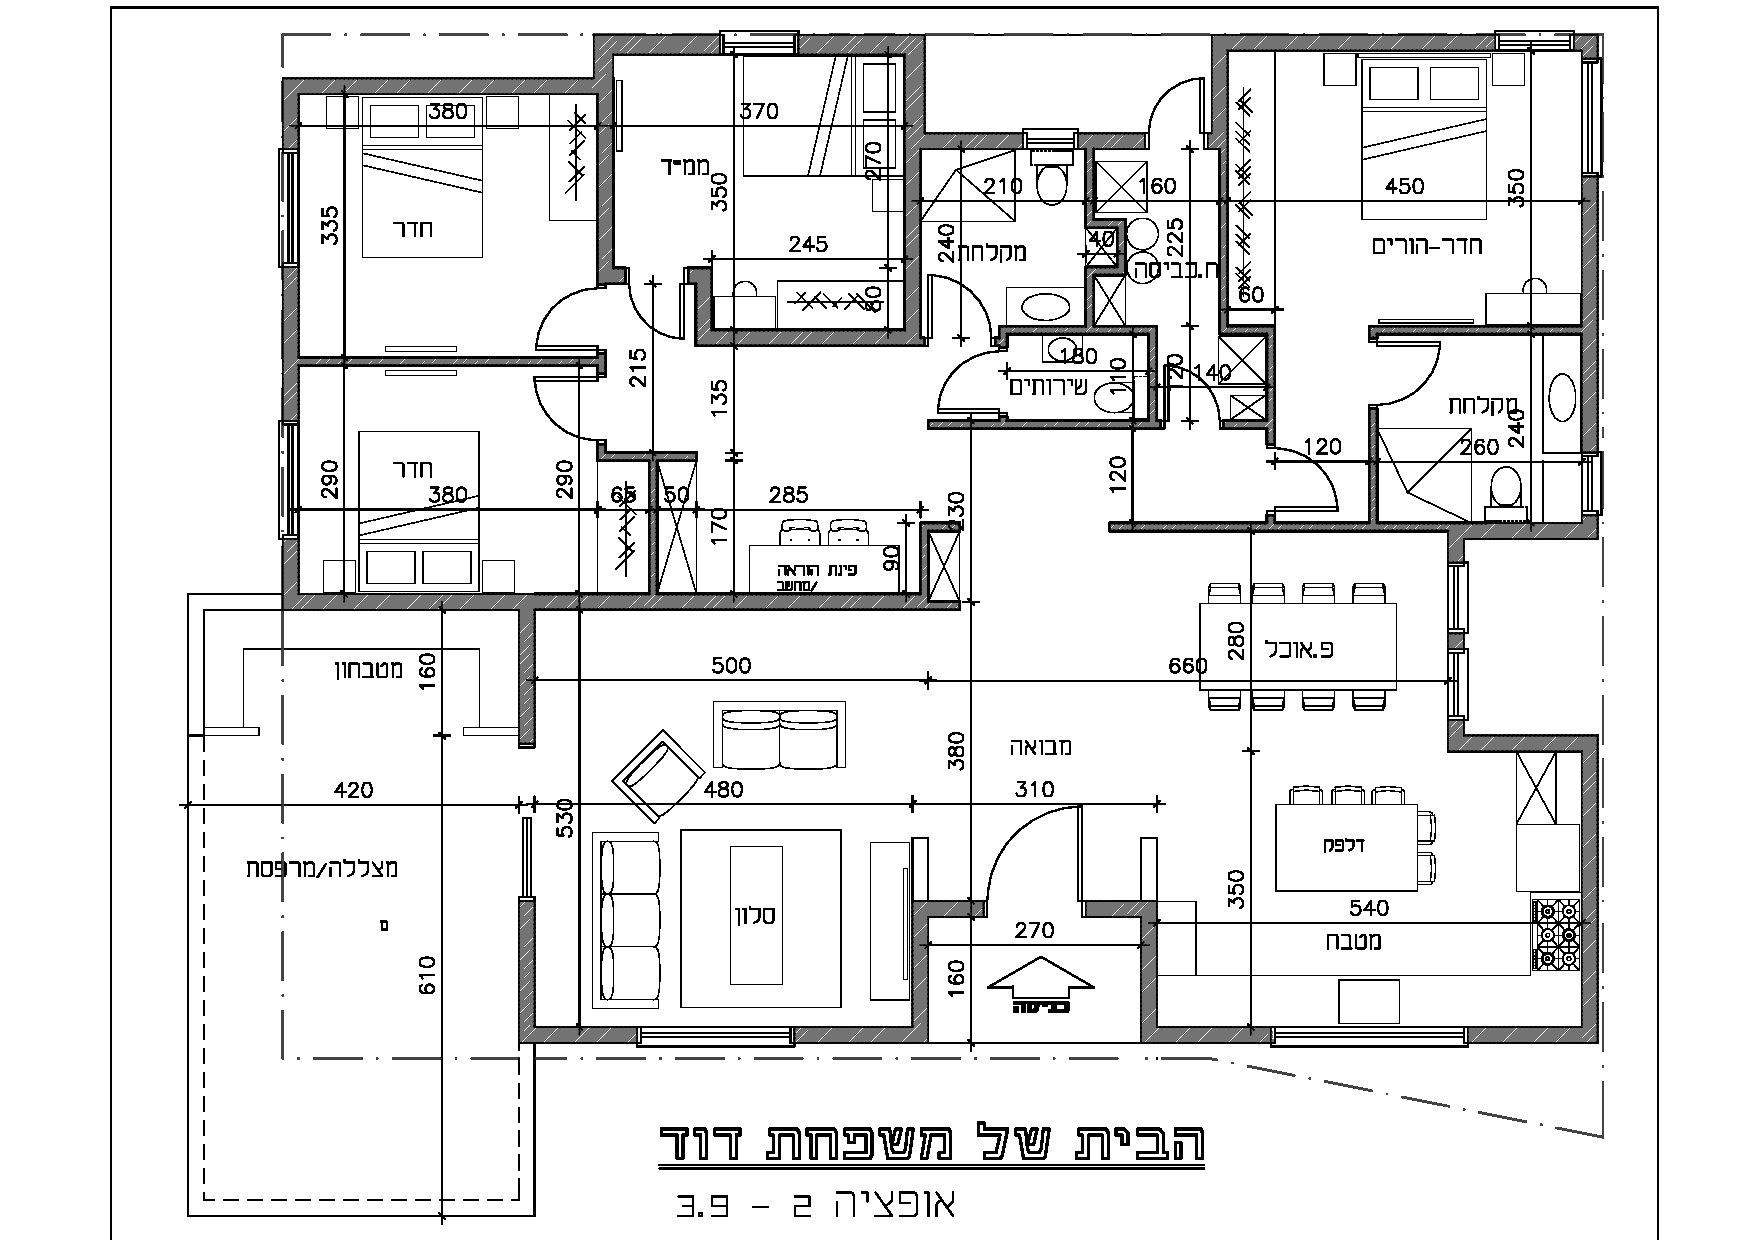window: (1267, 1025, 1463, 1053), (637, 1023, 798, 1049), (1576, 56, 1605, 178), (278, 148, 299, 267), (276, 420, 298, 539), (1492, 25, 1576, 54), (1444, 643, 1472, 719), (1444, 560, 1472, 635), (721, 30, 797, 55), (1578, 448, 1606, 514), (1023, 125, 1080, 152)
